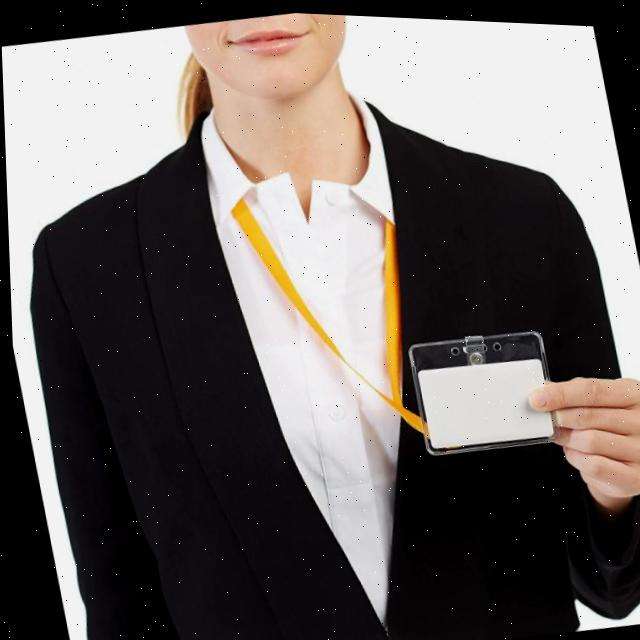id_card: (198, 105, 578, 485)
